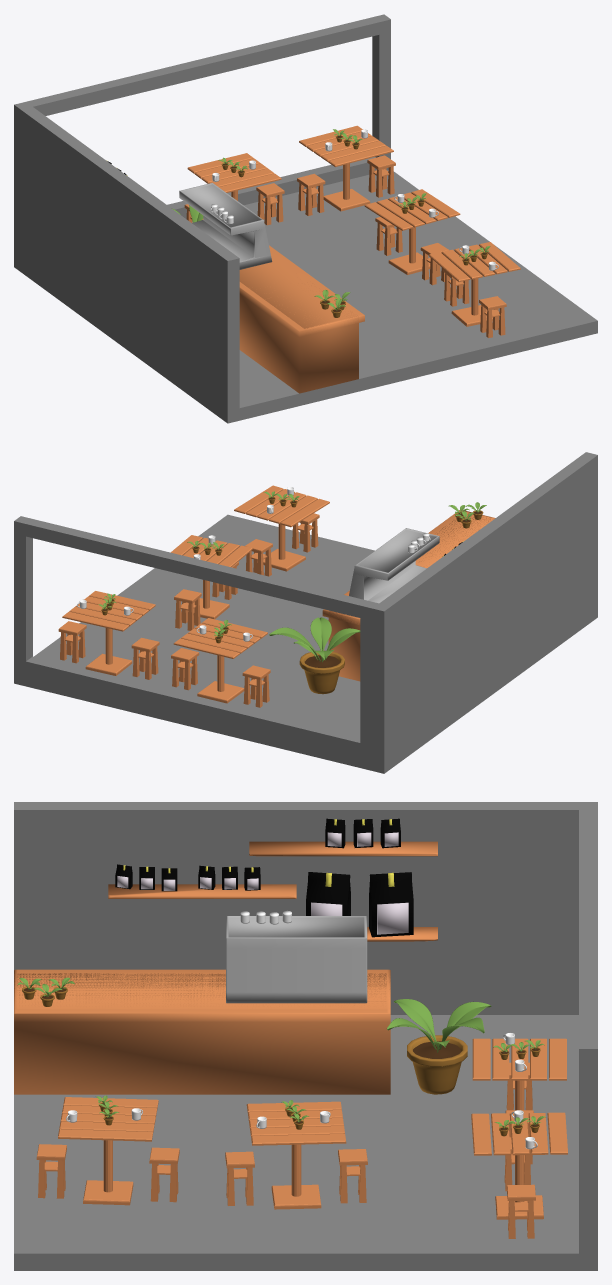
File: Coffeeshop.glb
3 views of the same model, one above another, from view 1: azimuth 30°, elevation 25°; view 2: azimuth 150°, elevation 25°; view 3: azimuth 270°, elevation 25° (orthographic). The views are drawn at different scales.
Visible parts, largest first — view 1: Building, Counter, Coffee Maker, TableTop.002, TableTop.001, TableTop.003, TableTop, Leg.003, Leg.002, Leg.001, Leg.006, TableBase.001 (+2 smaller); view 2: Building, Coffee Maker, Counter, TableTop.003, TableTop.001, TableTop, TableTop.002, Pot.003, Leg, Leg.001, TableBase, Leg.005 (+7 smaller); view 3: Building, Counter, Coffee Maker, TableTop.003, TableTop.002, TableTop.001, TableTop, Shelf2, Shelf1, Pot.003, Coffee Package.002, Coffee Package.001 (+9 smaller).
Boxes of the visible parts, x1,y1,x2,y2 form: Building: (14, 14, 597, 423); Counter: (239, 245, 364, 393); Coffee Maker: (179, 183, 272, 269); TableTop.002: (364, 189, 460, 230); TableTop.001: (299, 125, 393, 166); TableTop.003: (428, 242, 520, 281); TableTop: (187, 153, 281, 192); Leg.003: (298, 183, 324, 215); Leg.002: (368, 164, 394, 197); Leg.001: (257, 192, 283, 225); Leg.006: (480, 305, 505, 338); TableBase.001: (323, 189, 370, 211); Building: (14, 452, 597, 773); Coffee Maker: (349, 528, 439, 603); Counter: (322, 510, 495, 681); TableTop.003: (234, 485, 329, 527); TableTop.001: (62, 591, 155, 631); TableTop: (173, 618, 267, 658); TableTop.002: (171, 535, 252, 567); Pot.003: (299, 650, 344, 694); Leg: (243, 674, 269, 707); Leg.001: (172, 657, 197, 690); TableBase: (197, 681, 244, 703); Leg.005: (175, 598, 200, 630); Building: (14, 802, 597, 1270); Counter: (14, 969, 390, 1094); Coffee Maker: (226, 916, 367, 1003); TableTop.003: (58, 1097, 158, 1141); TableTop.002: (246, 1101, 346, 1145); TableTop.001: (471, 1112, 567, 1155); TableTop: (472, 1038, 566, 1080); Shelf2: (249, 841, 437, 856); Shelf1: (108, 884, 296, 898); Pot.003: (407, 1035, 467, 1094); Coffee Package.002: (369, 872, 413, 937); Coffee Package.001: (306, 872, 350, 915).
Size of the model in its own units: 6.2 by 2.6 by 6.2.
